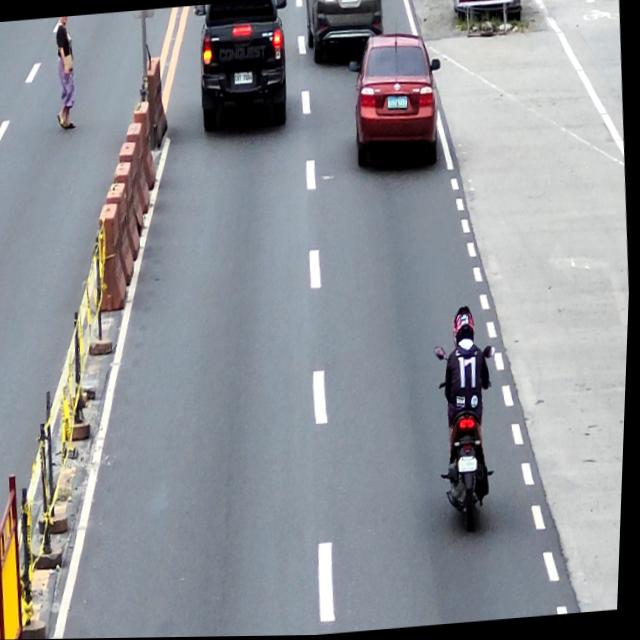Car: (344, 30, 449, 175), (188, 0, 294, 137), (302, 0, 386, 68)
License-Plate: (387, 94, 410, 111), (460, 456, 482, 473), (233, 71, 254, 85), (340, 0, 357, 3)
Motorcycle: (432, 341, 510, 534)
